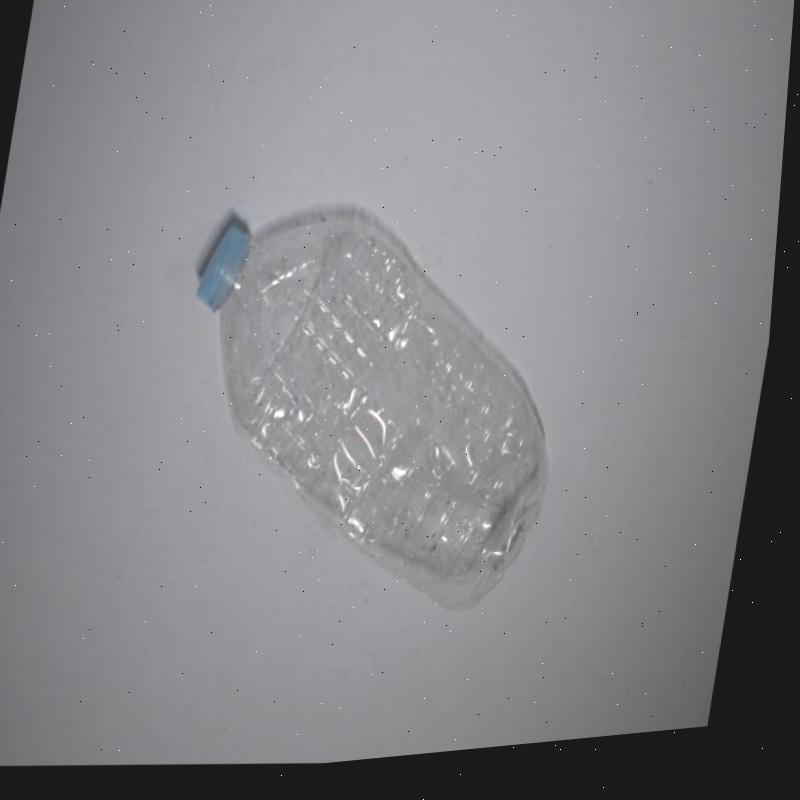botella: (149, 176, 600, 655)
